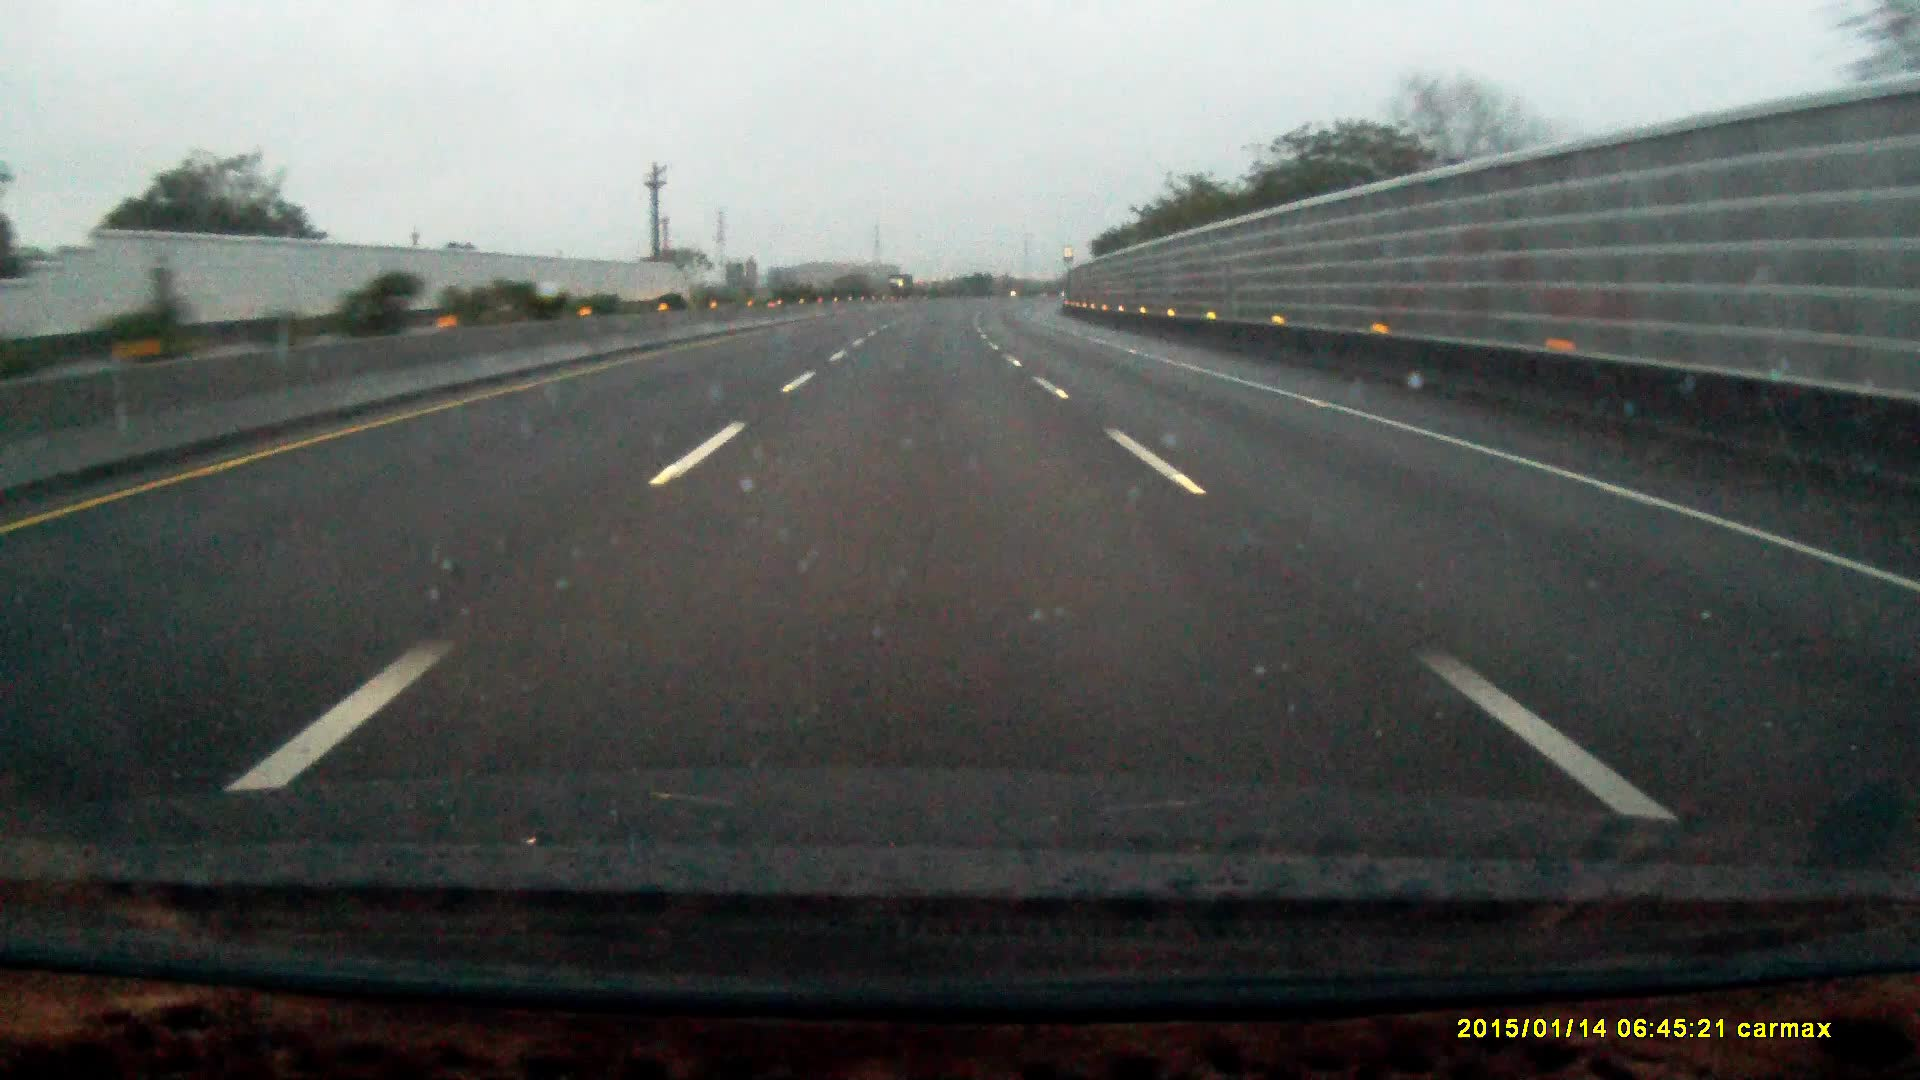vehicle: (887, 274, 915, 298)
